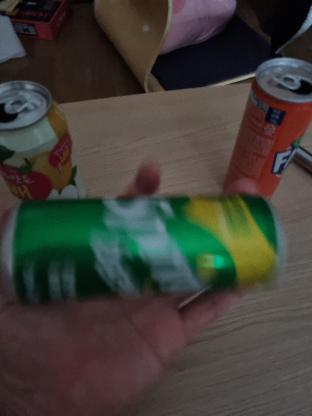Can: (15, 192, 278, 294)
